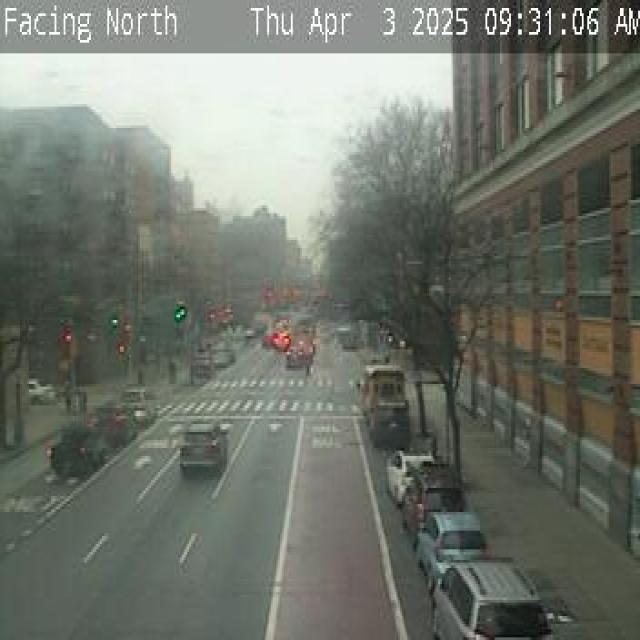open parking: (360, 370, 558, 640)
